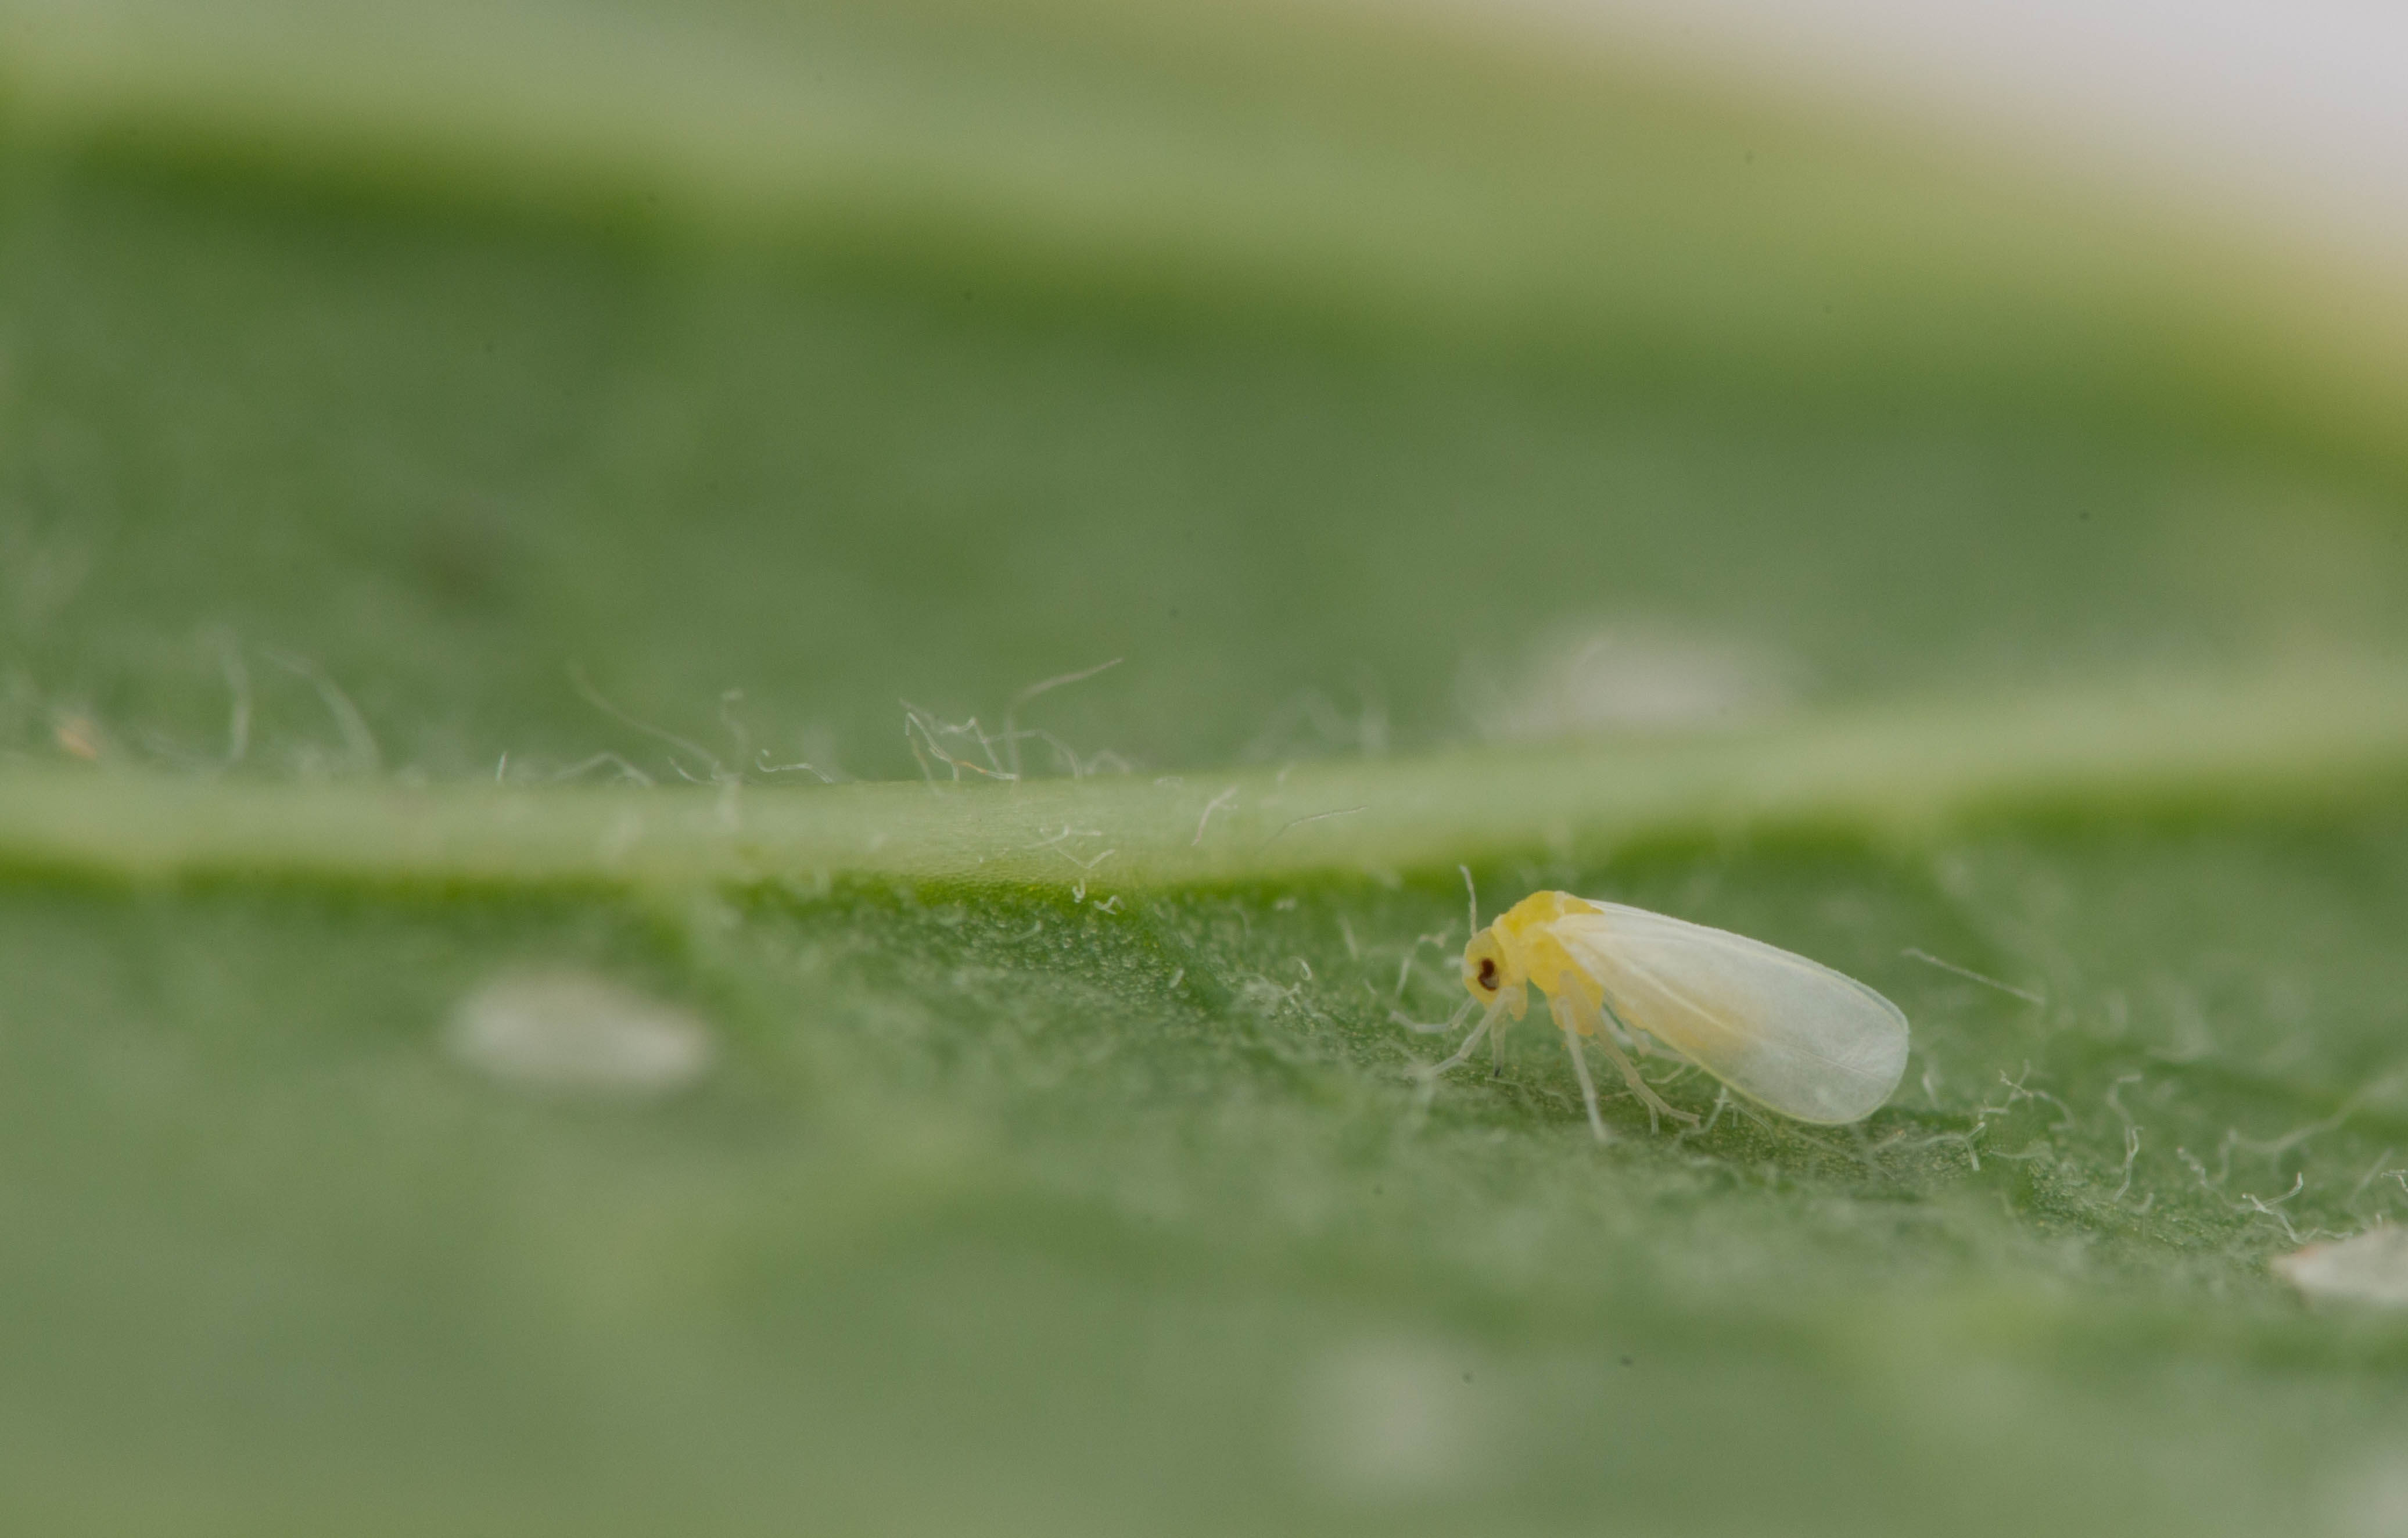Tobacco Whitefly: (1426, 869, 1983, 1146)
